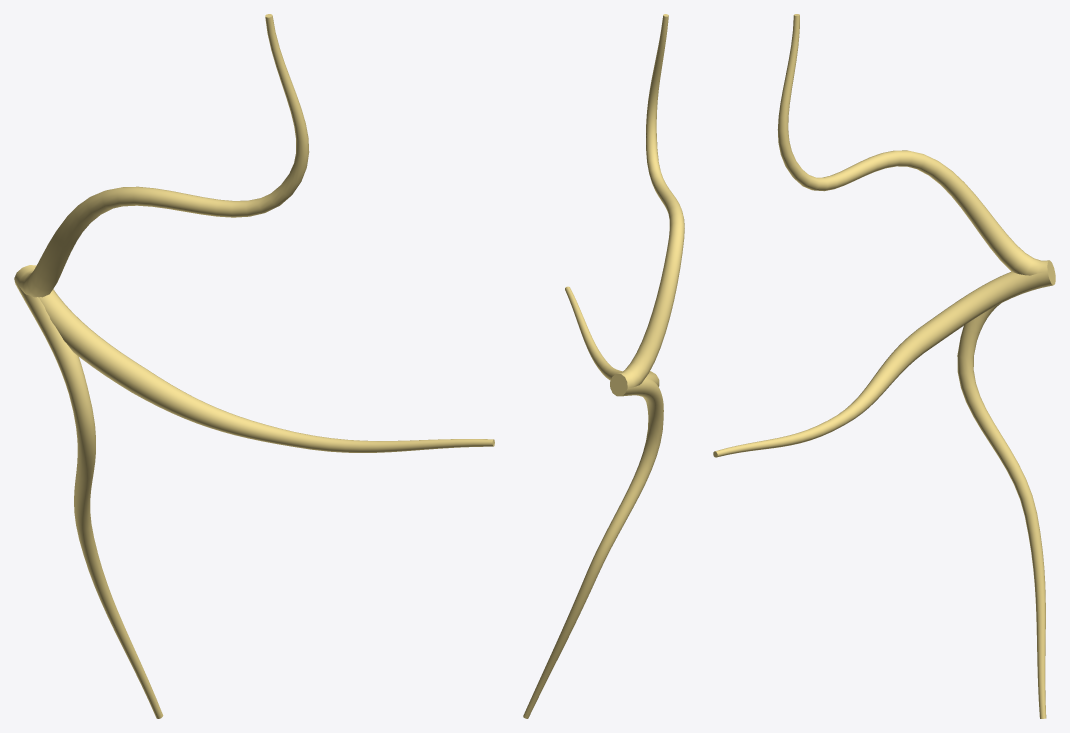
The picture shows the model from 3 angles, left to right: view 1: azimuth 30°, elevation 25°; view 2: azimuth 150°, elevation 25°; view 3: azimuth 270°, elevation 25°; orthographic projection. The views are drawn at different scales.
Parts seen in each view (by area): view 1: ZA_4e191670fa92ac5a; view 2: ZA_4e191670fa92ac5a; view 3: ZA_4e191670fa92ac5a.
Boxes of the visible parts, x1=… form: ZA_4e191670fa92ac5a: x1=14, y1=14, x2=494, y2=718; ZA_4e191670fa92ac5a: x1=523, y1=14, x2=684, y2=718; ZA_4e191670fa92ac5a: x1=713, y1=14, x2=1055, y2=718.
Bounding box in the file's own units: 0.00443 × 0.0119 × 0.00536.
